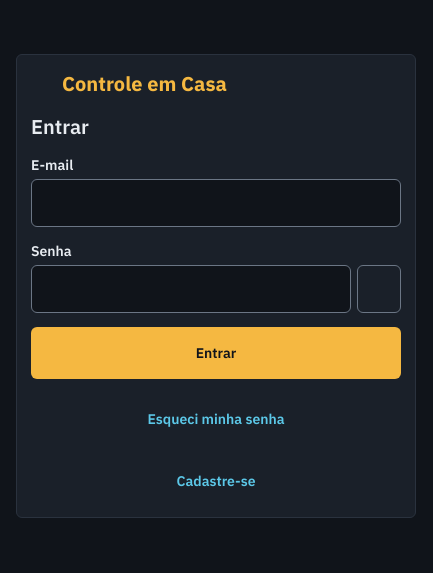
it: T01 Entrar › recusa "muitas_tentativas": o alerta tem o texto próprio, sem o código
Type "leandro@exemplo.com" into the field labelled "E-mail" at [216, 203], box top-left (31, 179), bottom-right (401, 227)
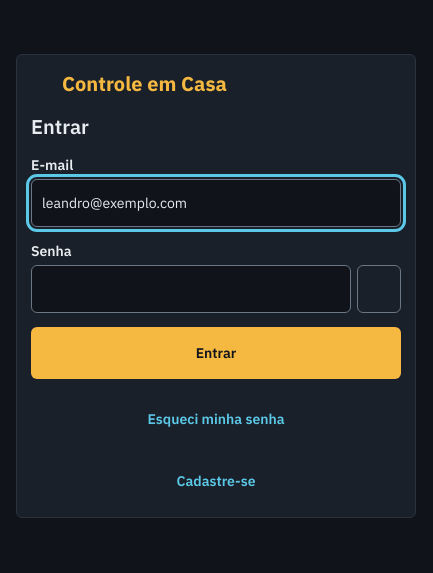
Type "senha-correta-123" into the password field labelled "Senha" at [191, 289], box top-left (31, 265), bottom-right (351, 313)
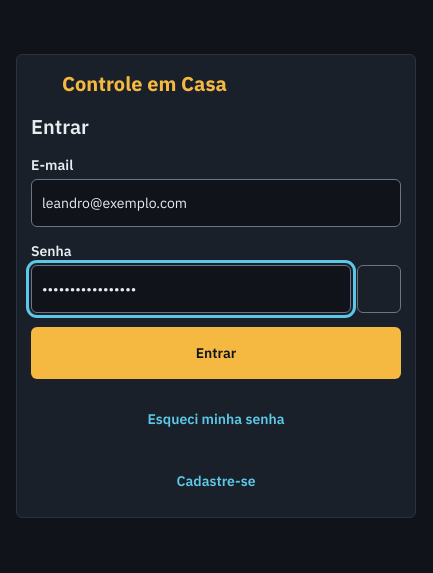
Click the button "Entrar" at [216, 353], box top-left (31, 327), bottom-right (401, 379)
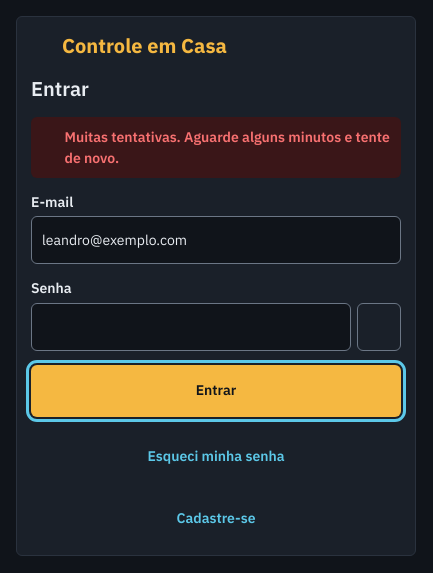
Result: the message shows "Muitas tentativas" at top-left (64, 128), bottom-right (390, 167)
